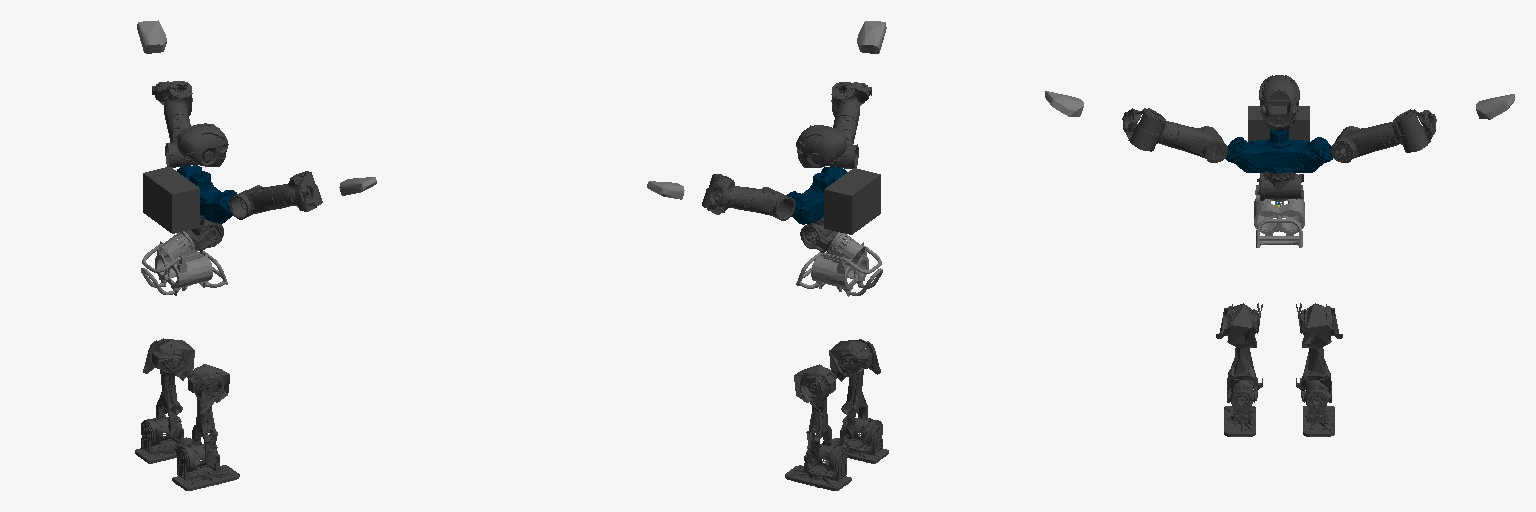
--- Render facts (derived) ---
Views: 3 orthographic renders of the robot side by side, from view 1: azimuth 30°, elevation 25°; view 2: azimuth 150°, elevation 25°; view 3: azimuth 270°, elevation 25°.
Robot: bigman — 85 links, 84 joints (31 revolute, 53 fixed); root link base_link; default pose: all joints at 0 but 2 set to mid-range because 0 is outside their limits (RShLat = -1.99, LShLat = 1.97).
Visible links, largest first — view 1: backpack, Waist, LLowLeg, RLowLeg, multisense/head, DWYTorso, RFoot, RShr, LFoot, LShr, RShy, LSoftHandLink (+4 smaller); view 2: backpack, Waist, RLowLeg, LLowLeg, multisense/head, DWYTorso, LFoot, LShr, RFoot, RShr, RSoftHandLink, LShy (+2 smaller); view 3: DWYTorso, RLowLeg, LLowLeg, Waist, multisense/head, LShr, RShr, LShy, RShy, backpack, RFoot, LFoot (+3 smaller).
Boxes of the visible links, x1,y1,x2,y2 form: backpack: [143, 167, 199, 233]; Waist: [141, 231, 227, 295]; LLowLeg: [143, 338, 194, 438]; RLowLeg: [175, 364, 229, 465]; multisense/head: [177, 123, 228, 166]; DWYTorso: [177, 165, 236, 223]; RFoot: [172, 448, 239, 490]; RShr: [229, 185, 281, 219]; LFoot: [135, 422, 191, 463]; LShr: [165, 114, 197, 167]; RShy: [272, 172, 322, 210]; LSoftHandLink: [137, 20, 166, 53]; backpack: [824, 168, 880, 234]; Waist: [796, 232, 882, 296]; RLowLeg: [829, 339, 880, 438]; LLowLeg: [794, 364, 848, 466]; multisense/head: [796, 125, 846, 167]; DWYTorso: [787, 166, 846, 224]; LFoot: [785, 449, 851, 490]; LShr: [744, 187, 795, 220]; RFoot: [832, 423, 888, 463]; RShr: [827, 116, 858, 168]; RSoftHandLink: [857, 21, 886, 53]; LShy: [702, 175, 751, 212]; DWYTorso: [1225, 129, 1332, 173]; RLowLeg: [1216, 303, 1262, 402]; LLowLeg: [1296, 303, 1342, 402]; Waist: [1254, 185, 1304, 247]; multisense/head: [1259, 75, 1299, 129]; LShr: [1331, 124, 1388, 162]; RShr: [1171, 123, 1227, 162]; LShy: [1381, 112, 1428, 152]; RShy: [1130, 111, 1178, 151]; backpack: [1248, 106, 1309, 141]; RFoot: [1224, 395, 1255, 436]; LFoot: [1303, 389, 1334, 436].
Size in the robot's own frame: 0.7355 by 2.28 by 1.95 metres.
19 mesh visuals loaded from 23 distinct referenced files (12 binary STL); not drawn: 18 (reference not matched to a file when rendering).

The robot description file, URDF, robot "bigman":
<?xml version="1.0" ?>
<!-- =================================================================================== -->
<!-- |    This document was autogenerated by xacro from bigman.urdf.xacro              | -->
<!-- |    EDITING THIS FILE BY HAND IS NOT RECOMMENDED                                 | -->
<!-- =================================================================================== -->
<robot name="bigman" xmlns:xacro="http://ros.org/wiki/xacro">
  <!-- 
  ROS urdf definition of the BIGMAN humanoid robot by Istituto Italiano di Tecnologia
  
  DO NOT INCLUDE THIS FILE DIRECTLY! USE bigman_robot.urdf.xacro INSTEAD!

  Author: Enrico Mingo & Alessio Rocchi

  Inertial matrix has to be in CoM frame (URDF specs)

  Velocity and effort limits are fake!
-->
  <!-- ************ MODEL CONFIGURATION ************ -->
  <!--
####################################################
##
##  BIGMAN_UPPER_BODY
##  if "true" the kinematic chains of the arms and torso 
##  will be used to generate the model
##
####################################################
-->
  <!--
####################################################
##
##  BIGMAN_LEGS
##  if "true" the kinematic chains of the legs
##  will be used to generate the model
##
####################################################
-->
  <!--
####################################################
##
##  BIGMAN_OLD_CHEST
##  if "true" the old version of the chest will be
##  used.
##  
##
####################################################
-->
  <!--
####################################################
##
##  BIGMAN_FIXED_HANDS
##  if "true" a fixed joint between wrist and hand 
##  will be used otherwise a rotative joints will
##  be used.
##  
##
####################################################
-->
  <!--
####################################################
##
##  BIGMAN_FIXED_MULTISENSE
##  if "true" a fixed joint between "head" and 
##  "hokuyo_link" will be used otherwise a continuous 
##  joints will be used.
##  
##
####################################################
-->
  <!--
####################################################
##
##  BIGMAN_HEAD
##  if "true" a fixed joint between "NeckPitch" and
##  "head" will be used to connect the head to the rest
##  of the body. If "false" the head will not be added 
##  to the model (this is the case when the multisense
##  from the launch file is used). 
##  
##
####################################################
-->
  <!--
####################################################
##
##  BIGMAN_ADD_PROTECTIONS
##  if "true" the protections are added to the model.
##  
##
####################################################
-->
  <!--
####################################################
##
##  BIGMAN_ADD_BACKPACK
##  if "true" the backpack is added to the model.
##  
##
####################################################
-->
  <!--
####################################################
##
##  BIGMAN_ADD_RAISING_SUPPORT
##  if "true" the raising support are added to the model.
##  
##
####################################################
-->
  <!--
####################################################
##
##  BIGMAN_NEW_FEET
##  if "true" the new feet with the joint in the middle
##  are used to the model.
##  
##
####################################################
-->
  <!--
####################################################
##
##  BIGMAN_SAFETY_JOINT_LIMITS_X
##  if "true" the more strict joint limits are used 
##  for the X part
##  
##
####################################################
-->
  <!-- ***********  MODEL COLORS *********** -->
  <material name="grey">
    <color rgba="0.5 0.5 0.5 1"/>
  </material>
  <material name="dark_grey">
    <color rgba="0.3 0.3 0.3 1"/>
  </material>
  <material name="blue">
    <color rgba="0.0 0.2 0.3 1"/>
  </material>
  <!-- ************ BIGMAN BASE ************** -->
  <!-- 
  ROS urdf definition of the BIGMAN humanoid robot by Istituto Italiano di Tecnologia
  
  DO NOT INCLUDE THIS FILE DIRECTLY! USE bigman_robot.urdf.xacro INSTEAD!

  Author: Enrico Mingo & Alessio Rocchi

  Inertial matrix has to be in CoM frame (URDF specs)

  Velocity and effort limits are fake!
-->
  <!--
The coordinate frame called base_link is rigidly attached to the robot root body. It is recommended to choose the robot waist as its root body. The base_link can be attached to the root in any arbitrary position or orientation; for every hardware platform there will be a different place on the base that provides an obvious point of reference. Note that REP 103 [1] specifies a preferred orientation for frames. -->
  <link name="base_link"/>
  <link name="Waist">
    <inertial>
      <origin rpy="0.0 0.0 0.0" xyz="-0.022813402 -0.00073935443 0.030422909"/>
      <mass value="1.1046081e+01"/>
      <inertia ixx="0.096207978" ixy="0.00014081043" ixz="0.0031258127" iyy="0.098511158" iyz="0.00013938149" izz="0.086541531"/>
    </inertial>
    <visual>
      <origin rpy="0 0 0" xyz="0 0 0"/>
      <geometry name="Waist_visual">
        <mesh filename="package://bigman_urdf/meshes/Waist.STL" scale="0.001 0.001 0.001"/>
      </geometry>
      <material name="grey"/>
    </visual>
    <collision>
      <origin rpy="0 0 0" xyz="0 0 0"/>
      <geometry name="Waist_collision">
        <mesh filename="package://bigman_urdf/meshes/simple/Waist.STL" scale="0.001 0.001 0.001"/>
      </geometry>
    </collision>
  </link>
  <joint name="base_joint" type="fixed">
    <parent link="base_link"/>
    <child link="Waist"/>
    <origin rpy="0 0 0" xyz="0 0 0"/>
  </joint>
  <!-- ********************TORSO******************** -->
  <!-- first real link of the robot, inertial reference frame -->
  <!-- Scale factor for meshes -->
  <!-- LINKS -->
  <!-- This links are defined in order to be compliant with http://www.ros.org/reps/rep-0120.html#coordinate-frames
and to define the end effectors of the robot-->
  <!-- The coordinate frame called torso is attached to the lowest body of the model which is a parent of l_gripper, r_gripper and gaze. -->
  <link name="torso"/>
  <link name="DWL">
    <inertial>
      <origin rpy="0 0 0" xyz="-0.04610869 0.02232230 -0.02249514"/>
      <mass value="1.44965471"/>
      <inertia ixx="0.01096760" ixy="0.00111556" ixz="0.00030030" iyy="0.00409572" iyz="0.00054456" izz="0.01143795"/>
    </inertial>
    <visual>
      <origin rpy="0 0 0" xyz="0.0 0.0 0.0"/>
      <geometry name="DWL_visual">
        <mesh filename="package://bigman_urdf/meshes/TorsoRoll.STL" scale="0.001 0.001 0.001"/>
      </geometry>
      <material name="dark_grey"/>
    </visual>
    <collision>
      <origin rpy="0 0 0" xyz="0.0 0.0 0.0"/>
      <geometry name="DWL_collision">
        <mesh filename="package://bigman_urdf/meshes/simple/TorsoRoll.STL" scale="0.001 0.001 0.001"/>
      </geometry>
    </collision>
  </link>
  <link name="DWS">
    <inertial>
      <origin rpy="0 0 0" xyz="0.00010203 0.00928164 0.08113610"/>
      <mass value="5.28825567"/>
      <inertia ixx="0.01628069" ixy="-0.00000323" ixz="0.00001424" iyy="0.01424286" iyz="0.00075458" izz="0.00994169"/>
    </inertial>
    <visual>
      <origin rpy="0 0 0" xyz="0.0 0.0 0.0"/>
      <geometry name="DWS_visual">
        <mesh filename="package://bigman_urdf/meshes/TorsoYawPitch.STL" scale="0.001 0.001 0.001"/>
      </geometry>
      <material name="dark_grey"/>
    </visual>
    <collision>
      <origin rpy="0 0 0" xyz="0.0 0.0 0.0"/>
      <geometry name="DWS_collision">
        <mesh filename="package://bigman_urdf/meshes/simple/TorsoYawPitch.STL" scale="0.001 0.001 0.001"/>
      </geometry>
    </collision>
  </link>
  <link name="DWYTorso">
    <inertial>
      <origin rpy="0 0 0" xyz="0.0 0.00 0.3"/>
      <mass value="26"/>
      <inertia ixx="0.18629757" ixy="0.00008160" ixz="0.00030250" iyy="0.02013829" iyz="-0.00001790" izz="0.18850541"/>
    </inertial>
    <visual>
      <origin rpy="0 0 0" xyz="0.0 0.0 0.0"/>
      <geometry name="DWYTorso_visual">
        <mesh filename="package://bigman_urdf/meshes/NewChest.STL" scale="0.001 0.001 0.001"/>
      </geometry>
      <material name="blue"/>
    </visual>
    <collision>
      <origin rpy="0 0 0" xyz="0.0 0.0 0.0"/>
      <geometry name="DWYTorso_collision">
        <mesh filename="package://bigman_urdf/meshes/simple/NewChest.STL" scale="0.001 0.001 0.001"/>
      </geometry>
    </collision>
  </link>
  <!-- UPDATE DATA FOR TORSO PROTECTION! -->
  <link name="TorsoProtections">
    <inertial>
      <origin rpy="0 0 0" xyz="-0.082963193 7.0747291e-07 0.075409106"/>
      <mass value="4.7"/>
      <inertia ixx="0.14773769" ixy="0.0" ixz="-0.029780072" iyy="0.16085511" iyz="0.0" izz="0.15409381"/>
    </inertial>
    <visual>
      <origin rpy="0 0 0" xyz="0.0 0.0 0.0"/>
      <geometry name="TorsoProtections_visual">
        <mesh filename="package://bigman_urdf/meshes/ProtectionSystem.STL" scale="0.001 0.001 0.001"/>
      </geometry>
      <material name="dark_grey"/>
    </visual>
    <collision>
      <origin rpy="0 0 0" xyz="0.0 0.0 0.0"/>
      <geometry name="TorsoProtections_collision">
        <mesh filename="package://bigman_urdf/meshes/simple/ProtectionSystem.STL" scale="0.001 0.001 0.001"/>
      </geometry>
    </collision>
  </link>
  <!-- UPDATE DATA FOR TORSO PROTECTION! -->
  <link name="backpack">
    <inertial>
      <origin rpy="0 0 0" xyz="0 0 -0.065"/>
      <mass value="10.0"/>
      <inertia ixx="0.0890833333333" ixy="0.0" ixz="0.0" iyy="0.0354166666667" iyz="0.0" izz="0.0963333333333"/>
    </inertial>
    <visual>
      <origin rpy="0 0 0" xyz="0.0 0.0 0.0"/>
      <geometry name="backpack_visual">
        <box size="0.16 0.3 0.22"/>
      </geometry>
      <material name="dark_grey"/>
    </visual>
    <collision>
      <origin rpy="0 0 0" xyz="0.0 0.0 0.0"/>
      <geometry name="backpack_collision">
        <box size="0.16 0.3 0.22"/>
      </geometry>
    </collision>
  </link>
  <!-- JOINTS -->
  <joint name="backpack_joint" type="fixed">
    <parent link="DWYTorso"/>
    <child link="backpack"/>
    <origin rpy="0 0 0" xyz="-0.185 0 -0.025"/>
  </joint>
  <joint name="torso_protection_joint" type="fixed">
    <parent link="DWYTorso"/>
    <child link="TorsoProtections"/>
    <origin rpy="0 0 0" xyz="0.0 0 0.0"/>
  </joint>
  <joint name="torso_joint" type="fixed">
    <parent link="DWYTorso"/>
    <child link="torso"/>
    <origin rpy="0 0 0" xyz="0.0 0 0.0"/>
  </joint>
  <joint name="WaistLat" type="revolute">
    <parent link="Waist"/>
    <child link="DWL"/>
    <origin rpy="0 0 0" xyz="0.1115 0 0.195982"/>
    <axis xyz="0.89879991307 0 0.43835911792"/>
    <limit effort="120" lower="-0.610865238196" upper="0.610865238196" velocity="6.283"/>
    <dynamics damping="5.0" friction="0"/>
  </joint>
  <joint name="WaistSag" type="revolute">
    <parent link="DWL"/>
    <child link="DWS"/>
    <origin rpy="0 0 0" xyz="0 0 0"/>
    <axis xyz="0 1 0"/>
    <limit effort="220" lower="-0.349065850398" upper="1.39626340159" velocity="6.283"/>
    <dynamics damping="5.0" friction="0"/>
  </joint>
  <joint name="WaistYaw" type="revolute">
    <parent link="DWS"/>
    <child link="DWYTorso"/>
    <origin rpy="0 0 0" xyz="0 0 0.22275"/>
    <axis xyz="0 0 1"/>
    <limit effort="120" lower="-2.84488668074" upper="2.84488668074" velocity="6.283"/>
    <dynamics damping="5.0" friction="0"/>
  </joint>
  <!-- ********************NECK********************* -->
  <!-- LINKS -->
  <link name="NeckYaw">
    <inertial>
      <origin rpy="0 0 0" xyz="0.0 0.0 0.1155"/>
      <mass value="0.35"/>
      <inertia ixx="0.00032840119" ixy="0.0" ixz="0.0" iyy="7.0371675e-05" iyz="0.0" izz="0.00032840111"/>
    </inertial>
    <visual>
      <origin rpy="0 0 0" xyz="0.0 0.0 0.0"/>
      <geometry name="NeckYaw_visual">
        <mesh filename="package://bigman_urdf/meshes/NeckYaw.STL" scale="0.001 0.001 0.001"/>
      </geometry>
      <material name="grey"/>
    </visual>
    <collision>
      <origin rpy="0 0 0" xyz="0.0 0.0 0.0"/>
      <geometry name="NeckYaw_collision">
        <mesh filename="package://bigman_urdf/meshes/simple/NeckYaw.STL" scale="0.001 0.001 0.001"/>
      </geometry>
    </collision>
  </link>
  <link name="NeckPitch">
    <inertial>
      <origin rpy="0 0 0" xyz="-0.102 0.0 0.26575"/>
      <mass value="0.623"/>
      <inertia ixx="0.0010388333" ixy="0.0" ixz="0.0" iyy="0.00054689381" iyz="0.0" izz="0.00054689381"/>
    </inertial>
    <visual>
      <origin rpy="0 0 0" xyz="0.0 0.0 0.0"/>
      <geometry name="NeckPitch_visual">
        <mesh filename="package://bigman_urdf/meshes/NeckPitch.STL" scale="0.001 0.001 0.001"/>
      </geometry>
      <material name="grey"/>
    </visual>
    <collision>
      <origin rpy="0 0 0" xyz="0.0 0.0 0.0"/>
      <geometry name="NeckPitch_collision">
        <mesh filename="package://bigman_urdf/meshes/simple/NeckPitch.STL" scale="0.001 0.001 0.001"/>
      </geometry>
    </collision>
  </link>
  <!-- JOINTS -->
  <joint name="NeckYawj" type="revolute">
    <parent link="DWYTorso"/>
    <child link="NeckYaw"/>
    <origin rpy="0 0 0" xyz="0 0 0"/>
    <axis xyz="0 0 1"/>
    <!--<limit velocity="6.283" effort="120" lower="${(-175.0)*toRad}" upper="${(175.0)*toRad}" /> -->
    <limit effort="120" lower="-0.610865238196" upper="0.610865238196" velocity="6.283"/>
    <dynamics damping="5.0" friction="0"/>
  </joint>
  <joint name="NeckPitchj" type="revolute">
    <parent link="NeckYaw"/>
    <child link="NeckPitch"/>
    <origin rpy="0 0 0" xyz="0 0 0.117"/>
    <axis xyz="0 1 0"/>
    <!--limit velocity="6.283" effort="120" lower="${(-30.0)*toRad}" upper="${(70.0)*toRad}" /> -->
    <limit effort="120" lower="-0.261799387798" upper="1.04719755119" velocity="6.283"/>
    <dynamics damping="5.0" friction="0"/>
  </joint>
  <!-- ********************LEGS******************** -->
  <!-- This links are defined in order to be compliant with http://www.ros.org/reps/rep-0120.html#coordinate-frames
	and to define the end effectors of the robot -->
  <!--  position and orientation of the leg regardless of the support body geometry -->
  <link name="l_ankle"/>
  <link name="r_ankle"/>
  <!-- position and orientation of the left leg support body. The (X,Y) plane of this frame must be coplanar with the support body contact surface. It is recommended to choose the origin as the projection of the support body origin on the contact surface. The Z coordinate of this frame should be on the ground level when standing. -->
  <!-- <link name="l_sole"/>
       <link name="r_sole"/> -->
    <link name="l_sole">
        <inertial>
            <mass value="0" />
            <origin xyz="0 0 0" rpy="0 -0 0" />
            <inertia ixx="0" ixy="0" ixz="0" iyy="0" iyz="0" izz="0" />
        </inertial>
    </link>
    <link name="r_sole">
        <inertial>
            <mass value="0" />
            <origin xyz="0 0 0" rpy="0 -0 0" />
            <inertia ixx="0" ixy="0" ixz="0" iyy="0" iyz="0" izz="0" />
        </inertial>
    </link>
  <!--  position and orientation of the leg toe body. The (X,Y) plan of this frame must be coplanar with the toe body contact surface. It is recommended to choose the origin as the projection of the body center on the contact surface. -->
  <link name="l_toe"/>
  <link name="r_toe"/>
  <!-- LINKS -->
  <!-- ********************RIGHT LEG******************** -->
  <link name="RHipMot">
    <inertial>
      <origin rpy="0 0 0" xyz="-0.10348188 -0.10919813 -0.064924056"/>
      <mass value="3.7958197"/>
      <inertia ixx="0.015639017" ixy="0.0018504661" ixz="0.0023907793" iyy="0.023519749" iyz="-0.0023303162" izz="0.020953643"/>
    </inertial>
    <visual>
      <origin rpy="0 0 0" xyz="0 0 0"/>
      <geometry name="RHipMot_visual">
        <mesh filename="package://bigman_urdf/meshes/HipRoll.STL" scale="0.001 0.001 0.001"/>
      </geometry>
      <material name="dark_grey"/>
    </visual>
    <collision>
      <origin rpy="0 0 0" xyz="0 0 0"/>
      <geometry name="RHipMot_collision">
        <mesh filename="package://bigman_urdf/meshes/simple/HipRoll.STL" scale="0.001 0.001 0.001"/>
      </geometry>
    </collision>
  </link>
  <link name="RThighUpLeg">
    <inertial>
      <origin rpy="0 0 0" xyz="-0.0052929709 -0.022561833 0.0056701669"/>
      <mass value="3.2402068"/>
      <inertia ixx="0.010102097" ixy="0.00010858487" ixz="0.00025291395" iyy="0.0067147" iyz="8.3447072e-05" izz="0.01048513"/>
    </inertial>
    <visual>
      <origin rpy="0 0 0" xyz="0 0 0"/>
      <geometry name="RThighUpLeg_visual">
        <mesh filename="package://bigman_urdf/meshes/HipYaw.STL" scale="0.001 0.001 0.001"/>
      </geometry>
      <material name="dark_grey"/>
    </visual>
    <collision>
      <origin rpy="0 0 0" xyz="0 0 0"/>
      <geometry name="RThighUpLeg_collision">
        <mesh filename="package://bigman_urdf/meshes/simple/HipYaw.STL" scale="0.001 0.001 0.001"/>
      </geometry>
    </collision>
  </link>
  <link name="RThighLowLeg">
    <inertial>
      <origin rpy="0 0 0" xyz="0.037746286 -0.028539939 -0.19310133"/>
      <mass value="5.0950736"/>
      <inertia ixx="0.051607858" ixy="0.0022253472" ixz="0.002452979" iyy="0.044349153" iyz="-0.0041006942" izz="0.023374453"/>
    </inertial>
    <visual>
      <origin rpy="0 0 0" xyz="0 0 0"/>
      <geometry name="RThighLowLeg_visual">
        <mesh filename="package://bigman_urdf/meshes/HipPitch.STL" scale="0.001 0.001 0.001"/>
      </geometry>
      <material name="grey"/>
    </visual>
    <collision>
      <origin rpy="0 0 0" xyz="0 0 0"/>
      <geometry name="RThighLowLeg_collision">
        <mesh filename="package://bigman_urdf/meshes/simple/HipPitch.STL" scale="0.001 0.001 0.001"/>
      </geometry>
    </collision>
  </link>
  <link name="RLowLeg">
    <inertial>
      <origin rpy="0 0 0" xyz="-0.0050828668 0.0037732093 -0.072605017"/>
      <mass value="5.6495309"/>
      <inertia ixx="0.10535542" ixy="-0.00058199221" ixz="0.0016743598" iyy="0.097857796" iyz="-0.0033770181" izz="0.020854086"/>
    </inertial>
    <visual>
      <origin rpy="0 0 0" xyz="0 0 0"/>
      <geometry name="RLowLeg_visual">
        <mesh filename="package://bigman_urdf/meshes/KneePitchCalf.STL" scale="0.001 0.001 0.001"/>
      </geometry>
      <material name="dark_grey"/>
    </visual>
    <collision>
      <origin rpy="0 0 0" xyz="0 0 0"/>
      <geometry name="RLowLeg_collision">
        <mesh filename="package://bigman_urdf/meshes/simple/KneePitchCalf.STL" scale="0.001 0.001 0.001"/>
      </geometry>
    </collision>
  </link>
  <link name="RFootmot">
    <inertial>
      <origin rpy="0 0 0" xyz="-0.022024173 0.0025677238 0.00094588455"/>
      <mass value="3.2844159"/>
      <inertia ixx="0.0075550679" ixy="0.00067488292" ixz="5.8332889e-05" iyy="0.011241163" iyz="-0.00014552081" izz="0.013391865"/>
    </inertial>
    <visual>
      <origin rpy="0 0 0" xyz="0 0 0"/>
      <geometry name="RFootmot_visual">
        <mesh filename="package://bigman_urdf/meshes/AnklePitch.STL" scale="0.001 0.001 0.001"/>
      </geometry>
      <material name="dark_grey"/>
    </visual>
    <collision>
      <origin rpy="0 0 0" xyz="0 0 0"/>
      <geometry name="RFootmot_collision">
        <mesh filename="package://bigman_urdf/meshes/simple/AnklePitch.STL" scale="0.001 0.001 0.001"/>
      </geometry>
    </collision>
  </link>
  <link name="RFoot">
    <inertial>
      <origin rpy="0 0 0" xyz="-0.00653584 -0.00479384 -0.10180375"/>
      <mass value="3.42638110"/>
      <inertia ixx="0.01032886" ixy="-0.00016407" ixz="-0.00201294" iyy="0.02854025" iyz="0.00046315" izz="0.02799499"/>
    </inertial>
    <visual>
      <origin rpy="0 0 0" xyz="0 0 0"/>
      <geometry name="RFoot_visual">
        <mesh filename="package://bigman_urdf/meshes/NewFoot.STL" scale="0.001 0.001 0.001"/>
      </geometry>
      <material name="dark_grey"/>
    </visual>
    <collision>
      <!--<origin xyz="0 0 0" rpy="0 0 0"/>
      <geometry name="RFoot_collision">
        <mesh filename="package://bigman_urdf/meshes/simple/Foot.STL" scale="0.001 -0.001 0.001"/>
      </geometry>-->
      <origin rpy="0 0 0" xyz="0.005 -0.01 -0.1359"/>
      <geometry>
        <box size="0.32 0.16 0.015"/>
      </geometry>
    </collision>
  </link>
  <!-- ********************LEFT LEG******************** -->
  <link name="LHipMot">
    <inertial>
      <origin rpy="0 0 0" xyz="-0.10348188 0.10919813 -0.064924056"/>
      <mass value="3.7958197"/>
      <inertia ixx="0.015639017" ixy="-0.0018504661" ixz="0.0023907793" iyy="0.023519749" iyz="0.0023303162" izz="0.020953643"/>
    </inertial>
    <visual>
      <origin rpy="0 0 0" xyz="0 0 0"/>
      <geometry name="LHipMot_visual">
        <mesh filename="package://bigman_urdf/meshes/HipRoll.STL" scale="0.001 -0.001 0.001"/>
      </geometry>
      <material name="dark_grey"/>
    </visual>
    <collision>
      <origin rpy="0 0 0" xyz="0 0 0"/>
      <geometry name="LHipMot_collision">
        <mesh filename="package://bigman_urdf/meshes/simple/HipRoll.STL" scale="0.001 -0.001 0.001"/>
      </geometry>
    </collision>
  </link>
  <link name="LThighUpLeg">
    <inertial>
      <origin rpy="0 0 0" xyz="-0.0052929709 0.022561833 0.0056701669"/>
      <mass value="3.2402068"/>
      <inertia ixx="0.010102097" ixy="-0.00010858487" ixz="0.00025291395" iyy="0.0067147" iyz="-8.3447072e-05" izz="0.01048513"/>
    </inertial>
    <visual>
      <origin rpy="0 0 0" xyz="0 0 0"/>
      <geometry name="LThighUpLeg_visual">
        <mesh filename="package://bigman_urdf/meshes/HipYaw.STL" scale="0.001 -0.001 0.001"/>
      </geometry>
      <material name="dark_grey"/>
    </visual>
    <collision>
      <origin rpy="0 0 0" xyz="0 0 0"/>
      <geometry name="LThighUpLeg_collision">
        <mesh filename="package://bigman_urdf/meshes/simple/HipYaw.STL" scale="0.001 -0.001 0.001"/>
      </geometry>
    </collision>
  </link>
  <link name="LThighLowLeg">
    <inertial>
      <origin rpy="0 0 0" xyz="0.037746286 0.028539939 -0.19310133"/>
      <mass value="5.0950736"/>
      <inertia ixx="0.051607858" ixy="-0.0022253472" ixz="0.002452979" iyy="0.044349153" iyz="0.0041006942" izz="0.023374453"/>
    </inertial>
    <visual>
      <origin rpy="0 0 0" xyz="0 0 0"/>
      <geometry name="LThighLowLeg_visual">
        <mesh filename="package://bigman_urdf/meshes/HipPitch.STL" scale="0.001 -0.001 0.001"/>
      </geometry>
      <material name="grey"/>
    </visual>
    <collision>
      <origin rpy="0 0 0" xyz="0 0 0"/>
      <geometry name="LThighLowLeg_collision">
        <mesh filename="package://bigman_urdf/meshes/simple/HipPitch.STL" scale="0.001 -0.001 0.001"/>
      </geometry>
    </collision>
  </link>
  <link name="LLowLeg">
    <inertial>
      <origin rpy="0 0 0" xyz="-0.0050828668 -0.0037732093 -0.072605017"/>
      <mass value="5.6495309"/>
      <inertia ixx="0.10535542" ixy="0.00058199221" ixz="0.0016743598" iyy="0.097857796" iyz="0.0033770181" izz="0.020854086"/>
    </inertial>
    <visual>
      <origin rpy="0 0 0" xyz="0 0 0"/>
      <geometry name="LLowLeg_visual">
        <mesh filename="package://bigman_urdf/meshes/KneePitchCalf.STL" scale="0.001 -0.001 0.001"/>
      </geometry>
      <material name="dark_grey"/>
    </visual>
    <collision>
      <origin rpy="0 0 0" xyz="0 0 0"/>
      <geometry name="LLowLeg_collision">
        <mesh filename="package://bigman_urdf/meshes/simple/KneePitchCalf.STL" scale="0.001 -0.001 0.001"/>
      </geometry>
    </collision>
  </link>
  <link name="LFootmot">
    <inertial>
      <origin rpy="0 0 0" xyz="-0.022024173 -0.0025677238 0.00094588455"/>
      <mass value="3.2844159"/>
      <inertia ixx="0.0075550679" ixy="-0.00067488292" ixz="5.8332889e-05" iyy="0.011241163" iyz="0.00014552081" izz="0.013391865"/>
    </inertial>
    <visual>
      <origin rpy="0 0 0" xyz="0 0 0"/>
      <geometry name="LFootmot_visual">
        <mesh filename="package://bigman_urdf/meshes/AnklePitch.STL" scale="0.001 -0.001 0.001"/>
      </geometry>
      <material name="dark_grey"/>
    </visual>
    <collision>
      <origin rpy="0 0 0" xyz="0 0 0"/>
      <geometry name="LFootmot_collision">
        <mesh filename="package://bigman_urdf/meshes/simple/AnklePitch.STL" scale="0.001 -0.001 0.001"/>
      </geometry>
    </collision>
  </link>
  <link name="LFoot">
    <inertial>
      <origin rpy="0 0 0" xyz="-0.00653584 0.00479384 -0.10180375"/>
      <mass value="3.42638110"/>
      <inertia ixx="0.01032886" ixy="-0.00016407" ixz="-0.00201294" iyy="0.02854025" iyz="0.00046315" izz="0.02799499"/>
    </inertial>
    <visual>
      <origin rpy="0 0 0" xyz="0 0 0"/>
      <geometry name="LFoot_visual">
        <mesh filename="package://bigman_urdf/meshes/NewFoot.STL" scale="0.001 -0.001 0.001"/>
      </geometry>
      <material name="dark_grey"/>
    </visual>
    <collision>
      <!--
      <origin xyz="0 0 0" rpy="0 0 0"/>
      <geometry name="LFoot_collision">
        <mesh filename="package://bigman_urdf/meshes/simple/Foot.STL" scale="0.001 0.001 0.001"/>
      </geometry>
      -->
      <origin rpy="0 0 0" xyz="0.005 0.01 -0.1359"/>
      <geometry>
        <box size="0.32 0.16 0.015"/>
      </geometry>
    </collision>
  </link>
  <!-- JOINTS -->
  <!-- ********************RIGHT LEG******************** -->
  <joint name="RHipLat" type="revolute">
    <parent link="Waist"/>
    <child link="RHipMot"/>
    <origin rpy="0 0 0" xyz="0.1059 -0.06 0.0"/>
    <axis xyz="1 0 0"/>
    <limit effort="400" lower="-0.87222" upper="0.697778" velocity="6.283"/>
    <dynamics damping="5.0" friction="0"/>
  </joint>
  <joint name="RHipYaw" type="revolute">
    <parent link="RHipMot"/>
    <child link="RThighUpLeg"/>
    <origin rpy="0 0 0" xyz="-0.0889 -0.121032 -0.217872"/>
    <axis xyz="0 0 1"/>
    <limit effort="140" lower="-1.57" upper="0.872222" velocity="6.283"/>
    <dynamics damping="5.0" friction="0"/>
  </joint>
  <joint name="RHipSag" type="revolute">
    <parent link="RThighUpLeg"/>
    <child link="RThighLowLeg"/>
    <origin rpy="0 0 0" xyz="0.0 0.0 0.0"/>
    <axis xyz="0 1 0"/>
    <limit effort="400" lower="-2.09333" upper="1.046667" velocity="6.283"/>
    <dynamics damping="5.0" friction="0"/>
  </joint>
  <joint name="RKneeSag" type="revolute">
    <parent link="RThighLowLeg"/>
    <child link="RLowLeg"/>
    <origin rpy="0 0 0" xyz="0.0 0.0 -0.356"/>
    <axis xyz="0 1 0"/>
    <limit effort="400" lower="0.0" upper="2.442222" velocity="6.283"/>
    <dynamics damping="5.0" friction="0"/>
  </joint>
  <joint name="RAnkSag" type="revolute">
    <parent link="RLowLeg"/>
    <child link="RFootmot"/>
    <origin rpy="0 0 0" xyz="0.0 0.0 -0.4"/>
    <axis xyz="0 1 0"/>
    <limit effort="330" lower="-1.39556" upper="0.697778" velocity="6.283"/>
    <dynamics damping="5.0" friction="0"/>
  </joint>
  <joint name="RAnkLat" type="revolute">
    <parent link="RFootmot"/>
    <child link="RFoot"/>
    <origin rpy="0 0 0" xyz="0.0 0.0 0.0"/>
    <axis xyz="1 0 0"/>
    <limit effort="210" lower="-0.785" upper="0.785" velocity="6.283"/>
    <dynamics damping="5.0" friction="0"/>
  </joint>
  <!-- ********************LEFT LEG******************** -->
  <joint name="LHipLat" type="revolute">
    <parent link="Waist"/>
    <child link="LHipMot"/>
    <origin rpy="0 0 0" xyz="0.1059 0.06 0.0"/>
    <axis xyz="1 0 0"/>
    <limit effort="400" lower="-0.697778" upper="0.87222" velocity="6.283"/>
    <dynamics damping="5.0" friction="0"/>
  </joint>
  <joint name="LHipYaw" type="revolute">
    <parent link="LHipMot"/>
    <child link="LThighUpLeg"/>
    <origin rpy="0 0 0" xyz="-0.0889 0.121032 -0.217872"/>
    <axis xyz="0 0 1"/>
    <limit effort="140" lower="-0.872222" upper="1.57" velocity="6.283"/>
    <dynamics damping="5.0" friction="0"/>
  </joint>
  <joint name="LHipSag" type="revolute">
    <parent link="LThighUpLeg"/>
    <child link="LThighLowLeg"/>
    <origin rpy="0 0 0" xyz="0.0 0.0 0.0"/>
    <axis xyz="0 1 0"/>
    <limit effort="400" lower="-2.09333" upper="1.046667" velocity="6.283"/>
    <dynamics damping="5.0" friction="0"/>
  </joint>
  <joint name="LKneeSag" type="revolute">
    <parent link="LThighLowLeg"/>
    <child link="LLowLeg"/>
    <origin rpy="0 0 0" xyz="0.0 0.0 -0.356"/>
    <axis xyz="0 1 0"/>
    <limit effort="400" lower="0.0" upper="2.442222" velocity="6.283"/>
    <dynamics damping="5.0" friction="0"/>
  </joint>
  <joint name="LAnkSag" type="revolute">
    <parent link="LLowLeg"/>
    <child link="LFootmot"/>
    <origin rpy="0 0 0" xyz="0.0 0.0 -0.4"/>
    <axis xyz="0 1 0"/>
    <limit effort="330" lower="-1.39556" upper="0.697778" velocity="6.283"/>
    <dynamics damping="5.0" friction="0"/>
  </joint>
  <joint name="LAnkLat" type="revolute">
    <parent link="LFootmot"/>
    <child link="LFoot"/>
    <origin rpy="0 0 0" xyz="0.0 0.0 0.0"/>
    <axis xyz="1 0 0"/>
    <limit effort="210" lower="-0.785" upper="0.785" velocity="6.283"/>
    <dynamics damping="5.0" friction="0"/>
  </joint>
  <joint name="l_ankle_joint" type="fixed">
    <parent link="LFoot"/>
    <child link="l_ankle"/>
    <origin rpy="0 0 0" xyz="0 0 0"/>
  </joint>
  <joint name="r_ankle_joint" type="fixed">
    <parent link="RFoot"/>
    <child link="r_ankle"/>
    <origin rpy="0 0 0" xyz="0 0 0"/>
  </joint>
  <joint name="l_sole_joint" type="fixed">
    <parent link="LFoot"/>
    <child link="l_sole"/>
    <origin rpy="0 0 0" xyz="0 0 -0.1435"/>
  </joint>
  <joint name="r_sole_joint" type="fixed">
    <parent link="RFoot"/>
    <child link="r_sole"/>
    <origin rpy="0 0 0" xyz="0 0 -0.1435"/>
  </joint>
  <joint name="l_toe_joint" type="fixed">
    <parent link="l_sole"/>
    <child link="l_toe"/>
    <origin rpy="0 0 0" xyz="0.16 0 0"/>
  </joint>
  <joint name="r_toe_joint" type="fixed">
    <parent link="r_sole"/>
    <child link="r_toe"/>
    <origin rpy="0 0 0" xyz="0.16 0 0"/>
  </joint>
  <!-- Reference frames in feet -->
  <!-- macro for reference frames in foot -->
  <!-- macro for one reference frame in foot -->
  <link name="l_foot_upper_right_link"/>
  <joint name="l_foot_upper_right_joint" type="fixed">
    <origin rpy="0 0 0" xyz="0.16 -0.07 0"/>
    <parent link="l_sole"/>
    <child link="l_foot_upper_right_link"/>
  </joint>
  <!-- macro for one reference frame in foot -->
  <link name="l_foot_upper_left_link"/>
  <joint name="l_foot_upper_left_joint" type="fixed">
    <origin rpy="0 0 0" xyz="0.16 0.09 0"/>
    <parent link="l_sole"/>
    <child link="l_foot_upper_left_link"/>
  </joint>
  <!-- macro for one reference frame in foot -->
  <link name="l_foot_lower_right_link"/>
  <joint name="l_foot_lower_right_joint" type="fixed">
    <origin rpy="0 0 0" xyz="-0.16 -0.07 0"/>
    <parent link="l_sole"/>
    <child link="l_foot_lower_right_link"/>
  </joint>
  <!-- macro for one reference frame in foot -->
  <link name="l_foot_lower_left_link"/>
  <joint name="l_foot_lower_left_joint" type="fixed">
    <origin rpy="0 0 0" xyz="-0.16 0.09 0"/>
    <parent link="l_sole"/>
    <child link="l_foot_lower_left_link"/>
  </joint>
  <!-- macro for reference frames in foot -->
  <!-- macro for one reference frame in foot -->
  <link name="r_foot_upper_right_link"/>
  <joint name="r_foot_upper_right_joint" type="fixed">
    <origin rpy="0 0 0" xyz="0.16 0.07 0"/>
    <parent link="r_sole"/>
    <child link="r_foot_upper_right_link"/>
  </joint>
  <!-- macro for one reference frame in foot -->
  <link name="r_foot_upper_left_link"/>
  <joint name="r_foot_upper_left_joint" type="fixed">
    <origin rpy="0 0 0" xyz="0.16 -0.09 0"/>
    <parent link="r_sole"/>
    <child link="r_foot_upper_left_link"/>
  </joint>
  <!-- macro for one reference frame in foot -->
  <link name="r_foot_lower_right_link"/>
  <joint name="r_foot_lower_right_joint" type="fixed">
    <origin rpy="0 0 0" xyz="-0.16 0.07 0"/>
    <parent link="r_sole"/>
    <child link="r_foot_lower_right_link"/>
  </joint>
  <!-- macro for one reference frame in foot -->
  <link name="r_foot_lower_left_link"/>
  <joint name="r_foot_lower_left_joint" type="fixed">
    <origin rpy="0 0 0" xyz="-0.16 -0.09 0"/>
    <parent link="r_sole"/>
    <child link="r_foot_lower_left_link"/>
  </joint>
  <!-- ********************ARMS******************** -->
  <!-- LINKS -->
  <!-- RIGHT ARM -->
  <link name="RShp">
    <inertial>
      <origin rpy="0 0 0" xyz="-0.00543349 -0.04480023 0.01581062"/>
      <mass value="1.81745527"/>
      <inertia ixx="0.00571053" ixy="0.00041083" ixz="-0.00005130" iyy="0.01126908" iyz="-0.00003461" izz="0.01371197"/>
    </inertial>
    <visual>
      <origin rpy="0 0 0" xyz="0 0 0"/>
      <geometry name="RShp_visual">
        <mesh filename="package://bigman_urdf/meshes/ShoulderPitch.STL" scale="0.001 0.001 0.001"/>
      </geometry>
      <material name="dark_grey"/>
    </visual>
    <collision>
      <origin rpy="0 0 0" xyz="0 0 0"/>
      <geometry name="RShp_collision">
        <mesh filename="package://bigman_urdf/meshes/simple/ShoulderPitch.STL" scale="0.001 0.001 0.001"/>
      </geometry>
    </collision>
  </link>
  <link name="RShr">
    <inertial>
      <origin rpy="0 0 0" xyz="0.00729315 0.00002698 -0.07529696"/>
      <mass value="5.00486460"/>
      <inertia ixx="0.01644345" ixy="-0.00001187" ixz="-0.00010546" iyy="0.01804804" iyz="-0.00000565" izz="0.00802420"/>
    </inertial>
    <visual>
      <origin rpy="0 0 0" xyz="0 0 0"/>
      <geometry name="RShr_visual">
        <mesh filename="package://bigman_urdf/meshes/TopUpperArm.STL" scale="0.001 0.001 0.001"/>
      </geometry>
      <material name="dark_grey"/>
    </visual>
    <collision>
      <origin rpy="0 0 0" xyz="0 0 0"/>
      <geometry name="RShr_collision">
        <mesh filename="package://bigman_urdf/meshes/simple/TopUpperArm.STL" scale="0.001 0.001 0.001"/>
      </geometry>
    </collision>
  </link>
  <link name="RShy">
    <inertial>
      <origin rpy="0 0 0" xyz="0.02765373 -0.03258647 -0.12698781"/>
      <mass value="3.20289133"/>
      <inertia ixx="0.01129046" ixy="0.00013518" ixz="-0.00134760" iyy="0.00984951" iyz="-0.00026836" izz="0.00728549"/>
    </inertial>
    <visual>
      <origin rpy="0 0 0" xyz="0 0 0"/>
      <geometry name="RShy_visual">
        <mesh filename="package://bigman_urdf/meshes/BottomUpperArm.STL" scale="0.001 0.001 0.001"/>
      </geometry>
      <material name="dark_grey"/>
    </visual>
    <collision>
      <origin rpy="0 0 0" xyz="0 0 0"/>
      <geometry name="RShy_collision">
        <mesh filename="package://bigman_urdf/meshes/simple/BottomUpperArm.STL" scale="0.001 0.001 0.001"/>
      </geometry>
    </collision>
  </link>
  <link name="RElb">
    <inertial>
      <origin rpy="0 0 0" xyz="-0.055754915 -0.007582604 -0.043820396"/>
      <mass value="8.6765385e-01"/>
      <inertia ixx="0.0040395238" ixy="0.00034973136" ixz="-0.00068400465" iyy="0.0022460561" iyz="0.00028844444" izz="0.0044895027"/>
    </inertial>
    <visual>
      <origin rpy="0 0 0" xyz="0 0 0"/>
      <geometry name="RElb_visual">
        <mesh filename="package://bigman_urdf/meshes/Elbow.STL" scale="0.001 0.001 0.001"/>
      </geometry>
      <material name="dark_grey"/>
    </visual>
    <collision>
      <origin rpy="0 0 0" xyz="0 0 0"/>
      <geometry name="RElb_collision">
        <mesh filename="package://bigman_urdf/meshes/simple/Elbow.STL" scale="0.001 0.001 0.001"/>
      </geometry>
    </collision>
  </link>
  <!-- LEFT ARM -->
  <link name="LShp">
    <inertial>
      <origin rpy="0 0 0" xyz="-0.00543349 0.04480023 0.01581062"/>
      <mass value="1.81745527"/>
      <inertia ixx="0.00571053" ixy="-0.00041083" ixz="-0.00005130" iyy="0.01126908" iyz="0.00003461" izz="0.01371197"/>
    </inertial>
    <visual>
      <origin rpy="0 0 0" xyz="0 0 0"/>
      <geometry name="LShp_visual">
        <mesh filename="package://bigman_urdf/meshes/ShoulderPitch.STL" scale="0.001 -0.001 0.001"/>
      </geometry>
      <material name="dark_grey"/>
    </visual>
    <collision>
      <origin rpy="0 0 0" xyz="0 0 0"/>
      <geometry name="LShp_collision">
        <mesh filename="package://bigman_urdf/meshes/simple/ShoulderPitch.STL" scale="0.001 -0.001 0.001"/>
      </geometry>
    </collision>
  </link>
  <link name="LShr">
    <inertial>
      <origin rpy="0 0 0" xyz="0.00729315 -0.00002698 -0.07529696"/>
      <mass value="5.00486460"/>
      <inertia ixx="0.01644345" ixy="0.00001187" ixz="-0.00010546" iyy="0.01804804" iyz="0.00000565" izz="0.00802420"/>
    </inertial>
    <visual>
      <origin rpy="0 0 0" xyz="0 0 0"/>
      <geometry name="LShr_visual">
        <mesh filename="package://bigman_urdf/meshes/TopUpperArm.STL" scale="0.001 -0.001 0.001"/>
      </geometry>
      <material name="dark_grey"/>
    </visual>
    <collision>
      <origin rpy="0 0 0" xyz="0 0 0"/>
      <geometry name="LShr_collision">
        <mesh filename="package://bigman_urdf/meshes/simple/TopUpperArm.STL" scale="0.001 -0.001 0.001"/>
      </geometry>
    </collision>
  </link>
  <link name="LShy">
    <inertial>
      <origin rpy="0 0 0" xyz="0.02765373 0.03258647 -0.12698781"/>
      <mass value="3.20289133"/>
      <inertia ixx="0.01129046" ixy="-0.00013518" ixz="-0.00134760" iyy="0.00984951" iyz="0.00026836" izz="0.00728549"/>
    </inertial>
    <visual>
      <origin rpy="0 0 0" xyz="0 0 0"/>
      <geometry name="LShy_visual">
        <mesh filename="package://bigman_urdf/meshes/BottomUpperArm.STL" scale="0.001 -0.001 0.001"/>
      </geometry>
      <material name="dark_grey"/>
    </visual>
    <collision>
      <origin rpy="0 0 0" xyz="0 0 0"/>
      <geometry name="LShy_collision">
        <mesh filename="package://bigman_urdf/meshes/simple/BottomUpperArm.STL" scale="0.001 -0.001 0.001"/>
      </geometry>
    </collision>
  </link>
  <link name="LElb">
    <inertial>
      <origin rpy="0 0 0" xyz="-0.055754915 0.007582604 -0.043820396"/>
      <mass value="8.6765385e-01"/>
      <inertia ixx="0.0040395238" ixy="-0.00034973136" ixz="-0.00068400465" iyy="0.0022460561" iyz="-0.00028844444" izz="0.0044895027"/>
    </inertial>
    <visual>
      <origin rpy="0 0 0" xyz="0 0 0"/>
      <geometry name="LElb_visual">
        <mesh filename="package://bigman_urdf/meshes/Elbow.STL" scale="0.001 -0.001 0.001"/>
      </geometry>
      <material name="dark_grey"/>
    </visual>
    <collision>
      <origin rpy="0 0 0" xyz="0 0 0"/>
      <geometry name="LElb_collision">
        <mesh filename="package://bigman_urdf/meshes/simple/Elbow.STL" scale="0.001 -0.001 0.001"/>
      </geometry>
    </collision>
  </link>
  <!-- JOINTS -->
  <!-- RIGHT ARM -->
  <joint name="RShSag" type="revolute">
    <parent link="DWYTorso"/>
    <child link="RShp"/>
    <origin rpy="0 0 0.3491" xyz="0.045646 -0.219164 0.001531"/>
    <axis xyz="0 0.743144825 -0.669130606"/>
    <limit effort="120" lower="-2.84488668074" upper="2.8099800957" velocity="6.283"/>
    <dynamics damping="5.0" friction="0"/>
  </joint>
  <joint name="RShLat" type="revolute">
    <parent link="RShp"/>
    <child link="RShr"/>
    <origin rpy="0 0 0" xyz="0.0 -0.116568264 0.03364"/>
    <axis xyz="1 0 0"/>
    <limit effort="120" lower="-3.8571776469" upper="-0.122173047639" velocity="6.283"/>
    <dynamics damping="5.0" friction="0"/>
  </joint>
  <joint name="RShYaw" type="revolute">
    <parent link="RShr"/>
    <child link="RShy"/>
    <origin rpy="0 0 0" xyz="0.0 0.0 -0.222"/>
    <axis xyz="0 0 1"/>
    <limit effort="120" lower="-2.86233997326" upper="2.82743338822" velocity="6.283"/>
    <dynamics damping="5.0" friction="0"/>
  </joint>
  <joint name="RElbj" type="revolute">
    <parent link="RShy"/>
    <child link="RElb"/>
    <origin rpy="0 0 0" xyz="0.036 0.0 -0.15"/>
    <axis xyz="0 1 0"/>
    <limit effort="120" lower="-2.96705972838" upper="0.593411945677" velocity="6.283"/>
    <dynamics damping="5.0" friction="0"/>
  </joint>
  <!-- LEFT ARM -->
  <joint name="LShSag" type="revolute">
    <parent link="DWYTorso"/>
    <child link="LShp"/>
    <origin rpy="0 0 -0.3491" xyz="0.045646 0.219164 0.001531"/>
    <axis xyz="0.0 0.743144825 0.669130606"/>
    <limit effort="120" lower="-2.87979326578" upper="2.79252680318" velocity="6.283"/>
    <dynamics damping="5.0" friction="0"/>
  </joint>
  <joint name="LShLat" type="revolute">
    <parent link="LShp"/>
    <child link="LShr"/>
    <origin rpy="0 0 0" xyz="0.0 0.116568264 0.03364"/>
    <axis xyz="1 0 0"/>
    <limit effort="120" lower="0.0872664625995" upper="3.8571776469" velocity="6.283"/>
    <dynamics damping="5.0" friction="0"/>
  </joint>
  <joint name="LShYaw" type="revolute">
    <parent link="LShr"/>
    <child link="LShy"/>
    <origin rpy="0 0 0" xyz="0.0 0.0 -0.222"/>
    <axis xyz="0 0 1"/>
    <limit effort="120" lower="-2.84488668074" upper="2.84488668074" velocity="6.283"/>
    <dynamics damping="5.0" friction="0"/>
  </joint>
  <joint name="LElbj" type="revolute">
    <parent link="LShy"/>
    <child link="LElb"/>
    <origin rpy="0 0 0" xyz="0.036 0.0 -0.15"/>
    <axis xyz="0 1 0"/>
    <limit effort="120" lower="-2.96705972838" upper="0.593411945677" velocity="6.283"/>
    <dynamics damping="5.0" friction="0"/>
  </joint>
  <!-- ***** LEGS F/T SENSOR REF FRAMES *******-->
  <link name="l_leg_ft"/>
  <link name="r_leg_ft"/>
  <joint name="l_leg_ft_joint" type="fixed">
    <parent link="LFoot"/>
    <child link="l_leg_ft"/>
    <origin rpy="0 0 0" xyz="0.005 0 -0.107"/>
  </joint>
  <joint name="r_leg_ft_joint" type="fixed">
    <parent link="RFoot"/>
    <child link="r_leg_ft"/>
    <origin rpy="0 0 0" xyz="0.005 0 -0.107"/>
  </joint>
  <link name="l_arm_ft"/>
  <link name="r_arm_ft"/>
  <joint name="l_arm_ft_joint" type="fixed">
    <parent link="LWrMot3"/>
    <child link="l_arm_ft"/>
    <origin rpy="0 0 0" xyz="0 0 -0.0565"/>
  </joint>
  <joint name="r_arm_ft_joint" type="fixed">
    <parent link="RWrMot3"/>
    <child link="r_arm_ft"/>
    <origin rpy="0 0 0" xyz="0 0 -0.0565"/>
  </joint>
  <!-- ************ MODIFIED TO FIT THE FT SENSORS
 REQUIREMENTS FOR WHOLEBODYDYNAMICS3 ************ -->
 	<sensor name="r_leg_ft_sensor" type="force_torque">
		<parent joint="RAnkLat"/>
        	<force_torque>
          		<frame>child</frame>
          		<measure_direction>child_to_parent</measure_direction>
        	</force_torque>
                <always_on>1</always_on>
          	<update_rate>100</update_rate>
      	</sensor>
 	<sensor name="l_leg_ft_sensor" type="force_torque">
        	<parent joint="LAnkLat"/>
		<force_torque>
          		<frame>child</frame>
          		<measure_direction>child_to_parent</measure_direction>
        	</force_torque>
        	<always_on>1</always_on>  	
        	<update_rate>100</update_rate> 	
      	</sensor>
 	<sensor name="l_arm_ft_sensor" type="force_torque">
		<parent joint="LWrj2"/>
        	<force_torque>
			<frame>child</frame>
          		<measure_direction>child_to_parent</measure_direction>
        	</force_torque>
        	<always_on>1</always_on> 	
        	<update_rate>100</update_rate> 	
     	 </sensor>
 	<sensor name="r_arm_ft_sensor" type="force_torque">
		<parent joint="RWrj2"/>
        	<force_torque>
			<frame>child</frame>
          		<measure_direction>child_to_parent</measure_direction>
        	</force_torque>
        	<always_on>1</always_on>	
        	<update_rate>100</update_rate> 	
     	 </sensor>
  <!-- ************ FOREARMS ************ -->
  <!-- This links are defined in order to be compliant with http://www.ros.org/reps/rep-0120.html#coordinate-frames
	and to define the end effectors of the robot -->
  <!-- position and orientation of the arm regardless of the tool (grasping device for instance) attached to it -->
  <link name="l_wrist"/>
  <link name="r_wrist"/>
  <!-- ****************LINKS**************** -->
  <!-- ****************LEFT FOREARM**************** -->
  <link name="LForearm">
    <inertial>
      <origin rpy="0 0 0" xyz="1.2625599e-05 0.0042975381 0.044717986"/>
      <mass value="2.2127686"/>
      <inertia ixx="0.0065428368" ixy="-4.1196967e-05" ixz="3.272727e-06" iyy="0.005587829" iyz="0.00042088668" izz="0.0024783023"/>
    </inertial>
    <visual>
      <origin rpy="0 0 0" xyz="0 0 0"/>
      <geometry name="LForearm_visual">
        <mesh filename="package://bigman_urdf/meshes/Forearm.STL" scale="0.001 -0.001 0.001"/>
      </geometry>
      <material name="dark_grey"/>
    </visual>
    <collision>
      <origin rpy="0 0 0" xyz="0 0 0"/>
      <geometry name="LForearm_collision">
        <mesh filename="package://bigman_urdf/meshes/simple/Forearm.STL" scale="0.001 -0.001 0.001"/>
      </geometry>
    </collision>
  </link>
  <link name="LWrMot2">
    <inertial>
      <origin rpy="0 0 0" xyz="0.009819377 0.0013797184 -0.080380065"/>
      <mass value="1.2838072"/>
      <inertia ixx="0.001994124" ixy="2.569706e-05" ixz="0.00017443538" iyy="0.0021755329" iyz="-0.00012100987" izz="0.001830376"/>
    </inertial>
    <visual>
      <origin rpy="0 0 0" xyz="0 0 0"/>
      <geometry name="LWrMot2_visual">
        <mesh filename="package://bigman_urdf/meshes/ForearmPitch.STL" scale="0.001 -0.001 0.001"/>
      </geometry>
      <material name="dark_grey"/>
    </visual>
    <collision>
      <origin rpy="0 0 0" xyz="0 0 0"/>
      <geometry name="LWrMot2_collision">
        <mesh filename="package://bigman_urdf/meshes/simple/ForearmPitch.STL" scale="0.001 -0.001 0.001"/>
      </geometry>
    </collision>
  </link>
  <link name="LWrMot3">
    <inertial>
      <origin rpy="0 0 0" xyz="0.0070380706 -1.0811188e-05 -0.039669274"/>
      <mass value="4.2801447e-01"/>
      <inertia ixx="0.00028620156" ixy="5.2570457e-08" ixz="-3.9174213e-05" iyy="0.00071261855" iyz="-9.5020266e-08" izz="0.00061444258"/>
    </inertial>
    <visual>
      <origin rpy="0 0 0" xyz="0 0 0"/>
      <geometry name="LWrMot3_visual">
        <mesh filename="package://bigman_urdf/meshes/ForearmRoll.STL" scale="0.001 -0.001 0.001"/>
      </geometry>
      <material name="blue"/>
    </visual>
    <collision>
      <origin rpy="0 0 0" xyz="0 0 0"/>
      <geometry name="LWrMot3_collision">
        <mesh filename="package://bigman_urdf/meshes/simple/ForearmRoll.STL" scale="0.001 -0.001 0.001"/>
      </geometry>
    </collision>
  </link>
  <!-- ****************RIGHT FOREARM**************** -->
  <link name="RForearm">
    <inertial>
      <origin rpy="0 0 0" xyz="1.2625599e-05 -0.0042975381 0.044717986"/>
      <mass value="2.2127686"/>
      <inertia ixx="0.0065428368" ixy="4.1196967e-05" ixz="3.272727e-06" iyy="0.005587829" iyz="-0.00042088668" izz="0.0024783023"/>
    </inertial>
    <visual>
      <origin rpy="0 0 0" xyz="0 0 0"/>
      <geometry name="RForearm_visual">
        <mesh filename="package://bigman_urdf/meshes/Forearm.STL" scale="0.001 0.001 0.001"/>
      </geometry>
      <material name="dark_grey"/>
    </visual>
    <collision>
      <origin rpy="0 0 0" xyz="0 0 0"/>
      <geometry name="RForearm_collision">
        <mesh filename="package://bigman_urdf/meshes/simple/Forearm.STL" scale="0.001 0.001 0.001"/>
      </geometry>
    </collision>
  </link>
  <link name="RWrMot2">
    <inertial>
      <origin rpy="0 0 0" xyz="0.009819377 -0.0013797184 -0.080380065"/>
      <mass value="1.2838072"/>
      <inertia ixx="0.001994124" ixy="-2.569706e-05" ixz="0.00017443538" iyy="0.0021755329" iyz="0.00012100987" izz="0.001830376"/>
    </inertial>
    <visual>
      <origin rpy="0 0 0" xyz="0 0 0"/>
      <geometry name="RWrMot2_visual">
        <mesh filename="package://bigman_urdf/meshes/ForearmPitch.STL" scale="0.001 0.001 0.001"/>
      </geometry>
      <material name="dark_grey"/>
    </visual>
    <collision>
      <origin rpy="0 0 0" xyz="0 0 0"/>
      <geometry name="RWrMot2_collision">
        <mesh filename="package://bigman_urdf/meshes/simple/ForearmPitch.STL" scale="0.001 0.001 0.001"/>
      </geometry>
    </collision>
  </link>
  <link name="RWrMot3">
    <inertial>
      <origin rpy="0 0 0" xyz="0.0070380706 1.0811188e-05 -0.039669274"/>
      <mass value="4.2801447e-01"/>
      <inertia ixx="0.00028620156" ixy="-5.2570457e-08" ixz="-3.9174213e-05" iyy="0.00071261855" iyz="9.5020266e-08" izz="0.00061444258"/>
    </inertial>
    <visual>
      <origin rpy="0 0 0" xyz="0 0 0"/>
      <geometry name="RWrMot3_visual">
        <mesh filename="package://bigman_urdf/meshes/ForearmRoll.STL" scale="0.001 0.001 0.001"/>
      </geometry>
      <material name="blue"/>
    </visual>
    <collision>
      <origin rpy="0 0 0" xyz="0 0 0"/>
      <geometry name="RWrMot3_collision">
        <mesh filename="package://bigman_urdf/meshes/simple/ForearmRoll.STL" scale="0.001 0.001 0.001"/>
      </geometry>
    </collision>
  </link>
  <!-- ****************JOINTS**************** -->
  <!-- ****************LEFT FOREARM**************** -->
  <joint name="LForearmPlate" type="revolute">
    <parent link="LElb"/>
    <child link="LForearm"/>
    <origin rpy="0 0 0" xyz="-0.075 0.0 -0.1955"/>
    <axis xyz="0 0 1"/>
    <limit effort="60" lower="-2.529" upper="2.529" velocity="6.283"/>
    <dynamics damping="5" friction="0"/>
  </joint>
  <joint name="LWrj1" type="revolute">
    <parent link="LForearm"/>
    <child link="LWrMot2"/>
    <origin rpy="0 0 0" xyz="0 0 0"/>
    <axis xyz="0 1 0"/>
    <limit effort="60" lower="-1.48" upper="1.48" velocity="6.283"/>
    <dynamics damping="5" friction="0"/>
  </joint>
  <joint name="LWrj2" type="revolute">
    <parent link="LWrMot2"/>
    <child link="LWrMot3"/>
    <origin rpy="0 0 0" xyz="0 0 -0.092"/>
    <axis xyz="1 0 0"/>
    <limit effort="60" lower="-1.48" upper="1.48" velocity="6.283"/>
    <dynamics damping="5" friction="0"/>
  </joint>
  <joint name="l_wrist_joint" type="fixed">
    <parent link="LWrMot3"/>
    <child link="l_wrist"/>
    <origin rpy="0 0 0" xyz="0 0 0"/>
  </joint>
  <!-- ****************RIGHT FOREARM**************** -->
  <joint name="RForearmPlate" type="revolute">
    <parent link="RElb"/>
    <child link="RForearm"/>
    <origin rpy="0 0 0" xyz="-0.075 0.0 -0.1955"/>
    <axis xyz="0 0 1"/>
    <limit effort="60" lower="-2.529" upper="2.529" velocity="6.283"/>
    <dynamics damping="5" friction="0"/>
  </joint>
  <joint name="RWrj1" type="revolute">
    <parent link="RForearm"/>
    <child link="RWrMot2"/>
    <origin rpy="0 0 0" xyz="0 0 0"/>
    <axis xyz="0 1 0"/>
    <limit effort="60" lower="-1.48" upper="1.48" velocity="6.283"/>
    <dynamics damping="5" friction="0"/>
  </joint>
  <joint name="RWrj2" type="revolute">
    <parent link="RWrMot2"/>
    <child link="RWrMot3"/>
    <origin rpy="0 0 0" xyz="0 0 -0.092"/>
    <axis xyz="1 0 0"/>
    <limit effort="60" lower="-1.48" upper="1.48" velocity="6.283"/>
    <dynamics damping="5" friction="0"/>
  </joint>
  <joint name="r_wrist_joint" type="fixed">
    <parent link="RWrMot3"/>
    <child link="r_wrist"/>
    <origin rpy="0 0 0" xyz="0 0 0"/>
  </joint>
  <!-- ************ HANDS ************ -->
  <!-- For the hand we use the inertia of a parallelepiped -->
  <!-- LINKS -->
  <link name="RSoftHand"/>
  <link name="TCP_R"/>
  <link name="RSoftHandLink">
    <inertial>
      <origin rpy="0 0 0" xyz="0 0 -0.17"/>
      <mass value="1.2"/>
      <inertia ixx="0.00232" ixy="0" ixz="0" iyy="0.00296" iyz="0" izz="0.00136"/>
    </inertial>
    <visual>
      <origin rpy="0.0 0.0 0.0" xyz="0.0 0.0 0.0"/>
      <geometry name="RSoftHandLink_visual">
        <mesh filename="package://bigman_urdf/meshes/SoftHandOpen.STL" scale="0.001 0.001 0.001"/>
      </geometry>
      <material name="grey"/>
    </visual>
    <collision>
      <origin rpy="0.0 0.0 0.0" xyz="0.0 0.0 0.0"/>
      <geometry name="RSoftHandLink_collision">
        <mesh filename="package://bigman_urdf/meshes/simple/SoftHandOpen.STL" scale="0.001 0.001 0.001"/>
      </geometry>
    </collision>
  </link>
  <link name="r_hand_upper_right_link"/>
  <link name="r_hand_lower_right_link"/>
  <link name="r_hand_upper_left_link"/>
  <link name="r_hand_lower_left_link"/>
  <link name="LSoftHand"/>
  <link name="TCP_L"/>
  <link name="LSoftHandLink">
    <inertial>
      <origin rpy="0 0 0" xyz="0 0 -0.17"/>
      <mass value="1.2"/>
      <inertia ixx="0.00232" ixy="0" ixz="0" iyy="0.00296" iyz="0" izz="0.00136"/>
    </inertial>
    <visual>
      <origin rpy="0.0 0.0 0.0" xyz="0.0 0.0 0.0"/>
      <geometry name="LSoftHandLink_visual">
        <mesh filename="package://bigman_urdf/meshes/SoftHandOpen.STL" scale="0.001 -0.001 0.001"/>
      </geometry>
      <material name="grey"/>
    </visual>
    <collision>
      <origin rpy="0.0 0.0 0.0" xyz="0.0 0.0 0.0"/>
      <geometry name="LSoftHandLink_collision">
        <mesh filename="package://bigman_urdf/meshes/simple/SoftHandOpen.STL" scale="0.001 -0.001 0.001"/>
      </geometry>
    </collision>
  </link>
  <link name="l_hand_upper_right_link"/>
  <link name="l_hand_lower_right_link"/>
  <link name="l_hand_upper_left_link"/>
  <link name="l_hand_lower_left_link"/>
  <!-- JOINTS -->
  <joint name="r_handj" type="fixed">
    <parent link="RWrMot3"/>
    <child link="RSoftHandLink"/>
    <origin rpy="0 0 0" xyz="0 0 0"/>
  </joint>
  <joint name="r_handj2" type="fixed">
    <parent link="RSoftHandLink"/>
    <child link="RSoftHand"/>
    <origin rpy="0 0 0" xyz="0 0.0305 -0.21"/>
  </joint>
  <joint name="r_handj3" type="fixed">
    <parent link="RSoftHand"/>
    <child link="r_hand_upper_right_link"/>
    <origin rpy="0 0 0" xyz="0.05 0.0 0.0"/>
  </joint>
  <joint name="r_handj4" type="fixed">
    <parent link="RSoftHand"/>
    <child link="r_hand_lower_right_link"/>
    <origin rpy="0 0 0" xyz="-0.05 0.0 0.0"/>
  </joint>
  <joint name="r_handj5" type="fixed">
    <parent link="RSoftHand"/>
    <child link="r_hand_upper_left_link"/>
    <origin rpy="0 0 0" xyz="0.05 0.0 0.1"/>
  </joint>
  <joint name="r_handj6" type="fixed">
    <parent link="RSoftHand"/>
    <child link="r_hand_lower_left_link"/>
    <origin rpy="0 0 0" xyz="-0.05 0.0 0.1"/>
  </joint>
  <joint name="l_handj" type="fixed">
    <parent link="LWrMot3"/>
    <child link="LSoftHandLink"/>
    <origin rpy="0 0 0" xyz="0 0 0"/>
  </joint>
  <joint name="l_handj2" type="fixed">
    <parent link="LSoftHandLink"/>
    <child link="LSoftHand"/>
    <origin rpy="0 0 0" xyz="0 -0.0305 -0.21"/>
  </joint>
  <joint name="l_handj3" type="fixed">
    <parent link="LSoftHand"/>
    <child link="l_hand_upper_right_link"/>
    <origin rpy="0 0 0" xyz="0.05 0.0 0.0"/>
  </joint>
  <joint name="l_handj4" type="fixed">
    <parent link="LSoftHand"/>
    <child link="l_hand_lower_right_link"/>
    <origin rpy="0 0 0" xyz="-0.05 0.0 0.0"/>
  </joint>
  <joint name="l_handj5" type="fixed">
    <parent link="LSoftHand"/>
    <child link="l_hand_upper_left_link"/>
    <origin rpy="0 0 0" xyz="0.05 0.0 0.1"/>
  </joint>
  <joint name="l_handj6" type="fixed">
    <parent link="LSoftHand"/>
    <child link="l_hand_lower_left_link"/>
    <origin rpy="0 0 0" xyz="-0.05 0.0 0.1"/>
  </joint>
  <joint name="TCP_Ljoint" type="fixed">
    <parent link="LSoftHand"/>
    <child link="TCP_L"/>
    <origin rpy="1.57079632679 3.14159265359 0" xyz="0.0 0.0 0.0"/>
  </joint>
  <joint name="TCP_Rjoint" type="fixed">
    <parent link="RSoftHand"/>
    <child link="TCP_R"/>
    <origin rpy="-1.57079632679 0 0" xyz="0.0 0.0 0.0"/>
  </joint>
  <!-- multisense_sl_v4 with fixed joints -->
  <joint name="neck_joint" type="fixed">
    <parent link="NeckPitch"/>
    <child link="multisense/head"/>
    <origin rpy="0 0 0" xyz="0.08765 0 0.06475"/>
  </joint>
  <!-- 
       Based on multisense_sl_v4.urdf in multisense_sl_description (DRCSIM) 
-->
  <!-- Head Link Simple Collision Meshes -->
  <link name="multisense/head">
    <inertial>
      <origin rpy="0 0 0" xyz="-0.075493 3.3383E-05 0.02774"/>
      <mass value="1.41984"/>
      <inertia ixx="0.0039688" ixy="-1.5797E-06" ixz="-0.00089293" iyy="0.0041178" iyz="-6.8415E-07" izz="0.0035243"/>
    </inertial>
    <visual>
      <origin rpy="0 0 0" xyz="0 0 0"/>
      <geometry>
        <mesh filename="package://bigman_urdf/meshes/Head.STL" scale="0.001 0.001 0.001"/>
      </geometry>
      <material name="dark_grey"/>
    </visual>
    <collision>
      <origin rpy="0 0 0" xyz="0 0 0"/>
      <geometry>
        <mesh filename="package://bigman_urdf/meshes/simple/Head.STL" scale="0.001 0.001 0.001"/>
      </geometry>
    </collision>
  </link>
  <link name="multisense/hokuyo_link">
    <inertial>
      <origin rpy="0 0 0" xyz="0.032428 0.0004084 -0.0041835"/>
      <mass value="0.057654"/>
      <inertia ixx="3.7174E-05" ixy="4.9927E-08" ixz="1.1015E-05" iyy="4.2412E-05" iyz="-9.8165E-09" izz="4.167E-05"/>
    </inertial>
    <visual>
      <origin rpy="1.5707963267949 0 1.5707963267949" xyz="0 0 0"/>
      <geometry>
        <mesh filename="package://bigman_urdf/meshes/hokuyo_link.STL"/>
      </geometry>
      <material name="black"/>
    </visual>
    <collision>
      <origin rpy="0 0 0" xyz="0.01885 0 -0.02119"/>
      <geometry>
        <box size="0.08 0.06 0.04238"/>
      </geometry>
    </collision>
    <collision>
      <origin rpy="0 0 0" xyz="0.03 0 0.0235"/>
      <geometry>
        <cylinder length="0.047" radius="0.024425"/>
      </geometry>
    </collision>
  </link>
  <joint name="hokuyo_joint" type="fixed">
    <origin rpy="0 0 0" xyz="-0.0446 0 0.0880"/>
    <parent link="multisense/head"/>
    <child link="multisense/hokuyo_link"/>
  </joint>
  <!-- Hokuyo Laser -->
  <joint name="head_hokuyo_joint" type="fixed">
    <axis xyz="0 1 0"/>
    <origin rpy="0 0 0" xyz="0.03 0 0.015"/>
    <parent link="multisense/hokuyo_link"/>
    <child link="multisense/head_hokuyo_frame"/>
  </joint>
  <link name="multisense/head_hokuyo_frame"/>
  <!-- Stereo Camera -->
  <joint name="left_camera_frame_joint" type="fixed">
    <!-- optical frame collocated with tilting DOF -->
    <origin xyz="0.0 0.035 -0.002"/>
    <parent link="multisense/head"/>
    <child link="multisense/left_camera_frame"/>
  </joint>
  <link name="multisense/left_camera_frame"/>
  <joint name="left_camera_optical_frame_joint" type="fixed">
    <origin rpy="-1.5708 0.0 -1.5708" xyz="0 0 0"/>
    <parent link="multisense/left_camera_frame"/>
    <child link="multisense/left_camera_optical_frame"/>
  </joint>
  <link name="multisense/left_camera_optical_frame"/>
  <joint name="right_camera_frame_joint" type="fixed">
    <origin xyz="0.0 -0.035 -0.002"/>
    <parent link="multisense/head"/>
    <child link="multisense/right_camera_frame"/>
  </joint>
  <link name="multisense/right_camera_frame"/>
  <joint name="right_camera_optical_frame_joint" type="fixed">
    <origin rpy="-1.5708 0.0 -1.5708" xyz="0 0 0"/>
    <parent link="multisense/right_camera_frame"/>
    <child link="multisense/right_camera_optical_frame"/>
  </joint>
  <link name="multisense/right_camera_optical_frame"/>
  <joint name="center_top_led_frame_joint" type="fixed">
    <origin xyz="0.01125 0.0 0.0105"/>
    <parent link="multisense/head"/>
    <child link="multisense/center_top_led_frame"/>
  </joint>
  <link name="multisense/center_top_led_frame"/>
  <joint name="center_bottom_led_frame_joint" type="fixed">
    <origin xyz="0.01125 0.0 -0.0155"/>
    <parent link="multisense/head"/>
    <child link="multisense/center_bottom_led_frame"/>
  </joint>
  <link name="multisense/center_bottom_led_frame"/>
  <joint name="left_led_frame_joint" type="fixed">
    <origin rpy="0 0 0.6" xyz="-0.01443 0.07452 0.050346"/>
    <parent link="multisense/head"/>
    <child link="multisense/left_led_frame"/>
  </joint>
  <link name="multisense/left_led_frame"/>
  <joint name="right_led_frame_joint" type="fixed">
    <origin rpy="0 0 -0.6" xyz="-0.01443 -0.07452 0.050346"/>
    <parent link="multisense/head"/>
    <child link="multisense/right_led_frame"/>
  </joint>
  <link name="multisense/right_led_frame"/>
  <!-- imu link -->
  <link name="multisense/head_imu_link">
    <inertial>
      <mass value="1e-5"/>
      <!-- collocate with parent link and remove mass from it -->
      <origin rpy="0 0 0" xyz="-0.122993 0.035033383 0.02774"/>
      <inertia ixx="1e-6" ixy="0" ixz="0" iyy="1e-6" iyz="0" izz="1e-6"/>
    </inertial>
    <visual>
      <origin rpy="0 0 0" xyz="0 0 0"/>
      <geometry>
        <box size="0.01 0.01 0.01"/>
      </geometry>
    </visual>
  </link>
  <joint name="head_imu_joint" type="fixed">
    <parent link="multisense/head"/>
    <child link="multisense/head_imu_link"/>
    <!-- putting it at the same z-level as the stereo -->
    <origin rpy="0 0 0" xyz="-0.0475 0.035 0.0"/>
  </joint>
  <link name="gaze"/>
  <joint name="gaze_joint" type="fixed">
    <parent link="multisense/head"/>
    <child link="gaze"/>
    <origin rpy="0 0 0" xyz="0 0 0"/>
  </joint>
  <!-- IMU -->
  <link name="imu_link">
    <inertial>
      <mass value="0.01"/>
      <origin xyz="0 0 0"/>
      <inertia ixx="1.0E-6" ixy="0" ixz="0" iyy="1.0E-6" iyz="0" izz="1.0E-6"/>
    </inertial>
    <visual>
      <origin rpy="0 0 0" xyz="0 0 0"/>
      <geometry>
        <box size="0.01 0.01 0.01"/>
      </geometry>
    </visual>
  </link> 
  <link name="imu_link2">
    <inertial>
      <mass value="0.01"/>
      <origin xyz="0 0 0"/>
      <inertia ixx="1.0E-6" ixy="0" ixz="0" iyy="1.0E-6" iyz="0" izz="1.0E-6"/>
    </inertial>
    <visual>
      <origin rpy="0 0 0" xyz="0 0 0"/>
      <geometry>
        <box size="0.01 0.01 0.01"/>
      </geometry>
    </visual>
  </link>
 <joint name="imu_joint" type="fixed">
    <parent link="Waist"/>
    <child link="imu_link"/>
    <origin rpy="0 0 0" xyz="0.0535 0.0 0.0601"/>
 </joint>
 <joint name="imu_joint2" type="fixed">
    <parent link="Waist"/>
    <child link="imu_link2"/>
    <origin rpy="0 0 0" xyz="0.0135 0.0 0.0601"/>
 </joint>
<!-- ADDED THE IMPLICIT SPRING DAMPER -->
 <gazebo reference="WaistLat">
    <implicitSpringDamper>1</implicitSpringDamper>
 </gazebo>
 <gazebo reference="WaistSag">
    <implicitSpringDamper>1</implicitSpringDamper>
 </gazebo>
 <gazebo reference="WaistYaw">
    <implicitSpringDamper>1</implicitSpringDamper>
 </gazebo>
 <gazebo reference="NeckYawj">
    <implicitSpringDamper>1</implicitSpringDamper>
 </gazebo>
 <gazebo reference="NeckPitchj">
    <implicitSpringDamper>1</implicitSpringDamper>
 </gazebo>
 <gazebo reference="RHipLat">
    <implicitSpringDamper>1</implicitSpringDamper>
 </gazebo>
 <gazebo reference="RHipYaw">
    <implicitSpringDamper>1</implicitSpringDamper>
 </gazebo>
 <gazebo reference="RHipSag">
    <implicitSpringDamper>1</implicitSpringDamper>
 </gazebo>
 <gazebo reference="RKneeSag">
    <implicitSpringDamper>1</implicitSpringDamper>
 </gazebo>
 <gazebo reference="RAnkSag">
    <implicitSpringDamper>1</implicitSpringDamper>
 </gazebo>
 <gazebo reference="RAnkLat">
    <implicitSpringDamper>1</implicitSpringDamper>
 </gazebo>
 <gazebo reference="LHipLat">
    <implicitSpringDamper>1</implicitSpringDamper>
 </gazebo>
 <gazebo reference="LHipYaw">
    <implicitSpringDamper>1</implicitSpringDamper>
 </gazebo>
 <gazebo reference="LHipSag">
    <implicitSpringDamper>1</implicitSpringDamper>
 </gazebo>
 <gazebo reference="LKneeSag">
    <implicitSpringDamper>1</implicitSpringDamper>
 </gazebo>
 <gazebo reference="LAnkSag">
    <implicitSpringDamper>1</implicitSpringDamper>
 </gazebo>
 <gazebo reference="LAnkLat">
    <implicitSpringDamper>1</implicitSpringDamper>
 </gazebo>
 <gazebo reference="RShSag">
    <implicitSpringDamper>1</implicitSpringDamper>
 </gazebo>
 <gazebo reference="RShLat">
    <implicitSpringDamper>1</implicitSpringDamper>
 </gazebo>
 <gazebo reference="RShYaw">
    <implicitSpringDamper>1</implicitSpringDamper>
 </gazebo>
 <gazebo reference="RElbj">
    <implicitSpringDamper>1</implicitSpringDamper>
 </gazebo>
 <gazebo reference="RForearmPlate">
    <implicitSpringDamper>1</implicitSpringDamper>
 </gazebo>
 <gazebo reference="RWrj1">
    <implicitSpringDamper>1</implicitSpringDamper>
 </gazebo>
 <gazebo reference="RWrj2">
    <implicitSpringDamper>1</implicitSpringDamper>
 </gazebo>
 <gazebo reference="LShSag">
    <implicitSpringDamper>1</implicitSpringDamper>
 </gazebo>
 <gazebo reference="LShLat">
    <implicitSpringDamper>1</implicitSpringDamper>
 </gazebo>
 <gazebo reference="LShYaw">
    <implicitSpringDamper>1</implicitSpringDamper>
 </gazebo>
 <gazebo reference="LElbj">
    <implicitSpringDamper>1</implicitSpringDamper>
 </gazebo>
 <gazebo reference="LForearmPlate">
    <implicitSpringDamper>1</implicitSpringDamper>
 </gazebo>
 <gazebo reference="LWrj1">
    <implicitSpringDamper>1</implicitSpringDamper>
 </gazebo>
 <gazebo reference="LWrj2">
    <implicitSpringDamper>1</implicitSpringDamper>
 </gazebo>
</robot> 
